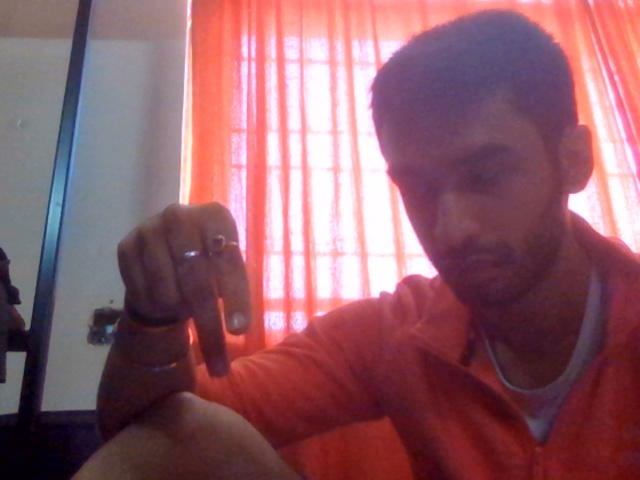P: (89, 175, 299, 393)
